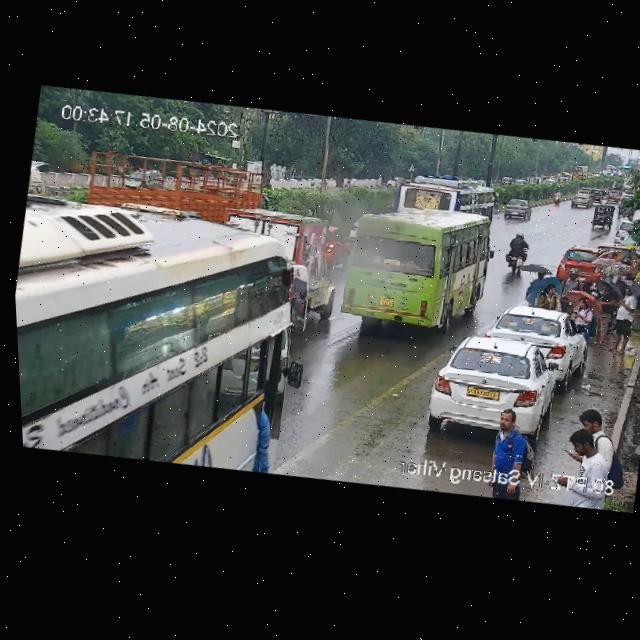bus: (10, 176, 312, 489), (332, 190, 511, 353), (386, 167, 507, 232)
car: (421, 325, 576, 451), (480, 296, 591, 373), (554, 242, 602, 286), (594, 236, 640, 259), (589, 202, 615, 231), (504, 196, 531, 223), (595, 182, 622, 205), (612, 217, 634, 245), (569, 189, 591, 209)
motorcycle: (500, 231, 532, 276), (552, 187, 564, 206)
person: (559, 400, 614, 470), (606, 282, 640, 357), (588, 279, 620, 348), (558, 265, 583, 308), (523, 265, 547, 305), (534, 281, 563, 310), (569, 294, 592, 328)
truck: (85, 137, 281, 243), (215, 199, 350, 334), (480, 403, 533, 470)
